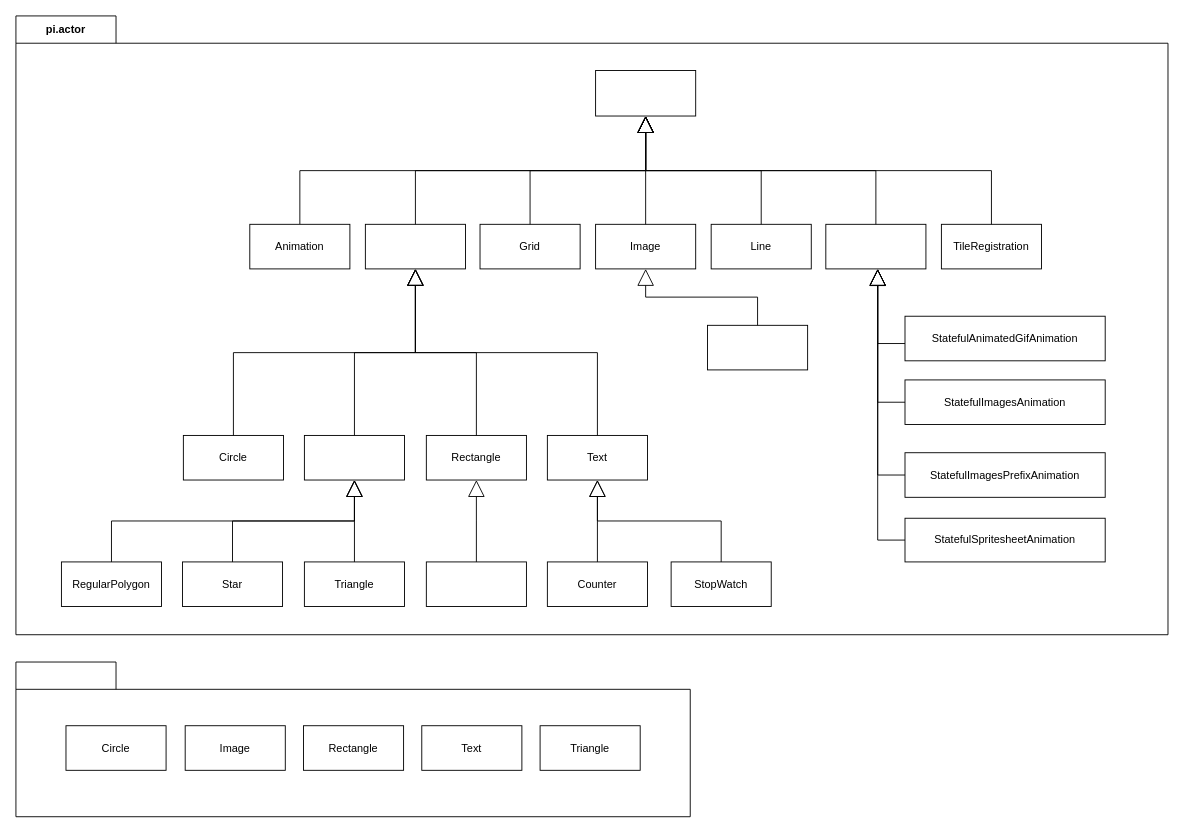
Image size: 1184x833. Some labels were removed from this diagram. The box of each missing label's shape, as (x1, y1, x2, y2) in pixels:
Actor {abstract}: (595, 70, 696, 116)
Geometry {abstract}: (364, 223, 465, 269)
ImageFontText: (707, 324, 808, 370)
pi: (15, 661, 690, 817)
Polygon: (303, 435, 404, 480)
Square: (425, 561, 526, 607)
StatefulAnimation: (825, 223, 926, 269)
